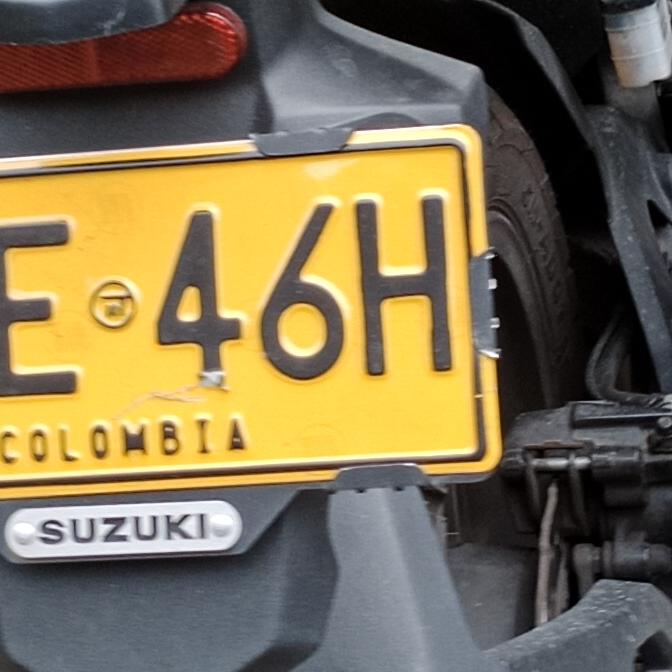plates: (0, 115, 509, 514)
